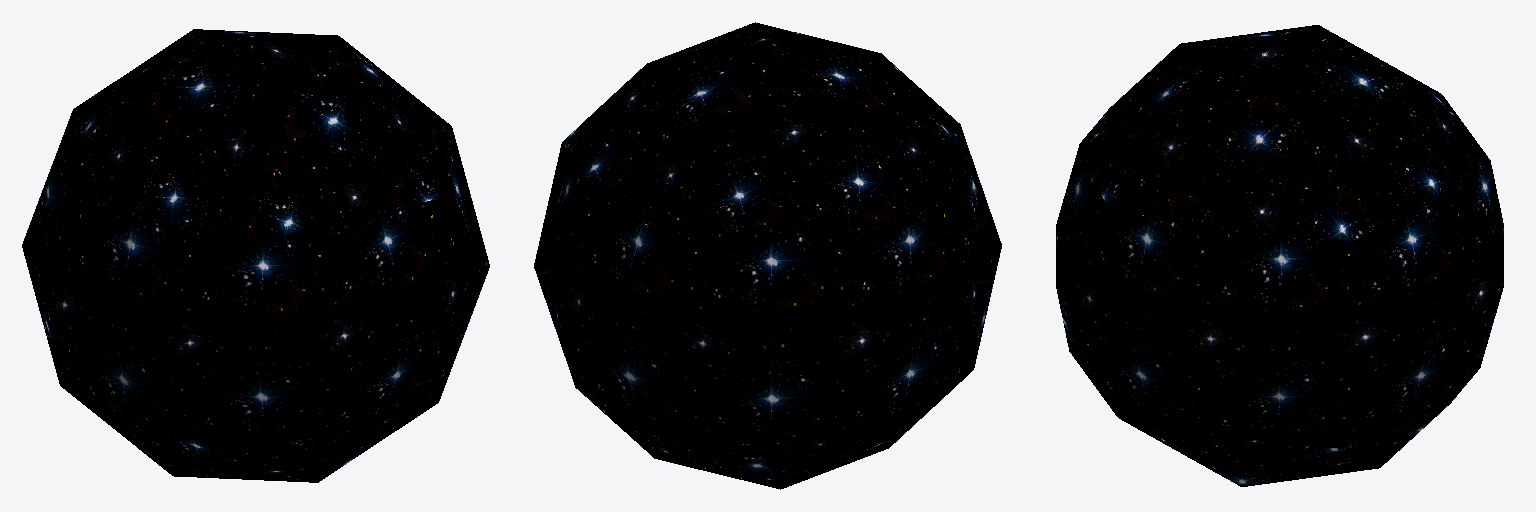
3 views of the same model, side by side, from view 1: azimuth 30°, elevation 25°; view 2: azimuth 150°, elevation 25°; view 3: azimuth 270°, elevation 25° (orthographic).
Size of the model in its own units: 2000 by 2000 by 1902.
1 materials, 1 textured.